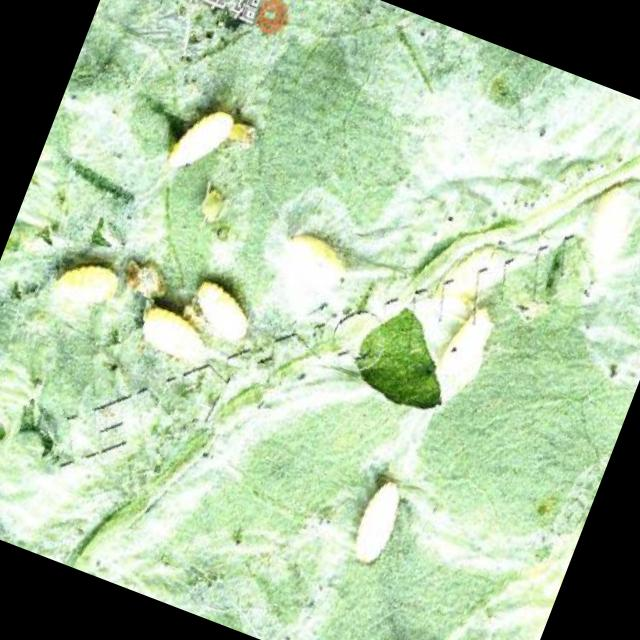whorl-maggot: (120, 298, 223, 392), (38, 236, 132, 336), (157, 87, 246, 192), (262, 221, 364, 312), (340, 468, 415, 574), (173, 272, 264, 349)
